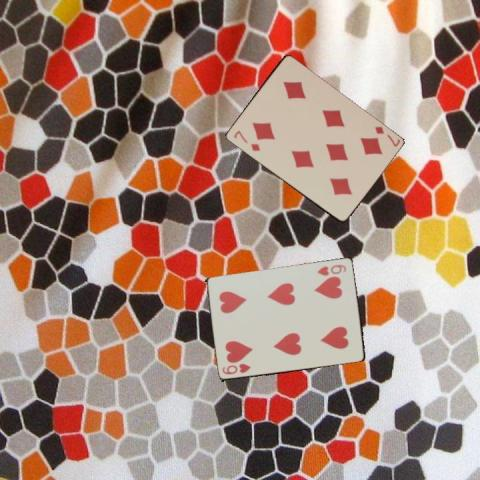6h: (314, 261, 348, 277), (219, 360, 252, 375)
7d: (231, 127, 261, 153), (372, 123, 402, 148)
